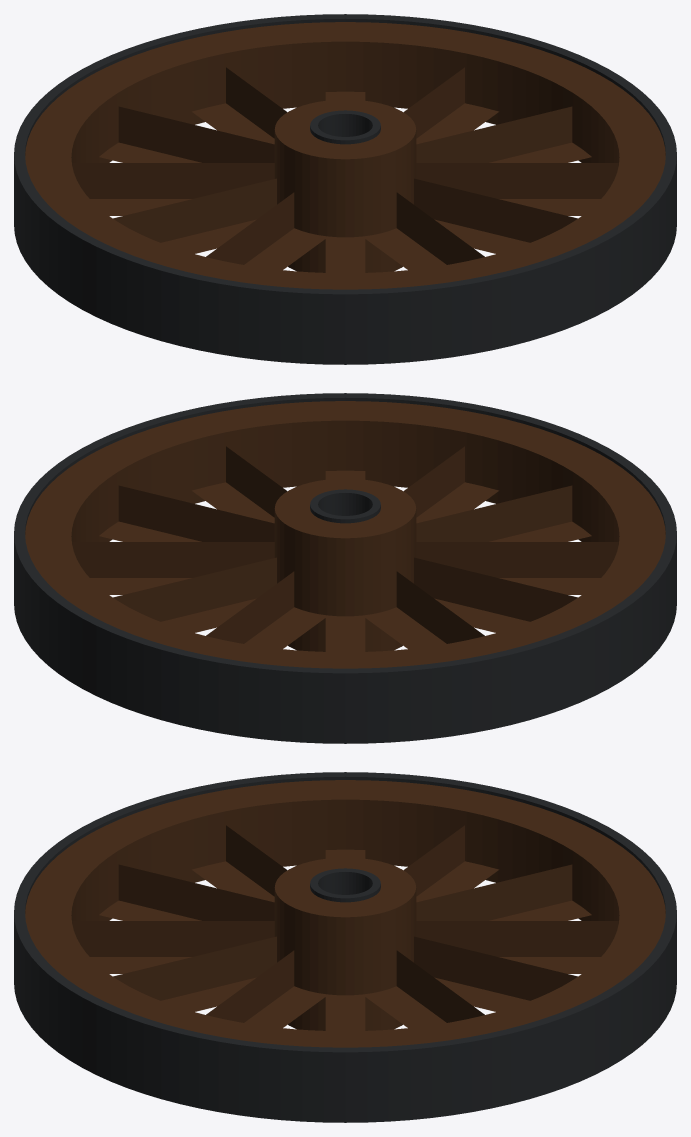
File: SM_WagonWheel1348_LOD0.obj
3 renders of one model, top to bottom at view 1: azimuth 30°, elevation 25°; view 2: azimuth 150°, elevation 25°; view 3: azimuth 270°, elevation 25°, orthographic.
Parts seen in each view (by area): view 1: SM_WagonWheel1348_LOD0; view 2: SM_WagonWheel1348_LOD0; view 3: SM_WagonWheel1348_LOD0.
Part boxes in pixels (left/top/right/bottom): SM_WagonWheel1348_LOD0: left=14, top=14, right=676, bottom=364; SM_WagonWheel1348_LOD0: left=14, top=393, right=676, bottom=743; SM_WagonWheel1348_LOD0: left=14, top=772, right=676, bottom=1122.
Bounding box in the file's own units: 150 × 32 × 150.
